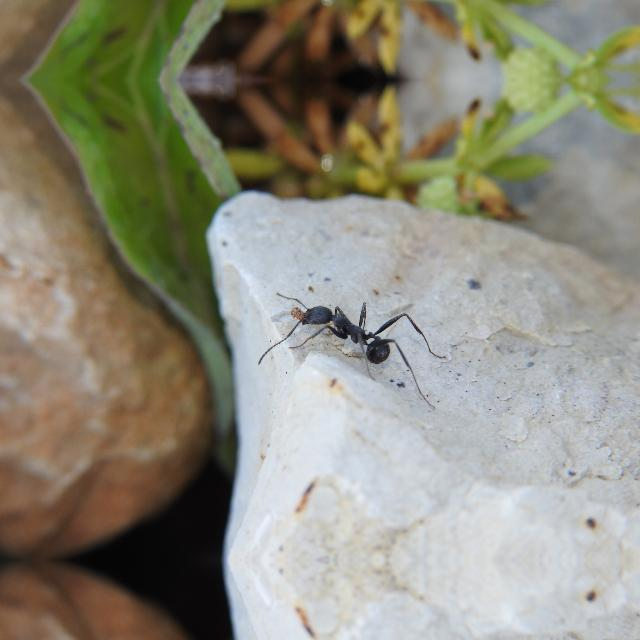Apheanogaster: (265, 284, 425, 378)
